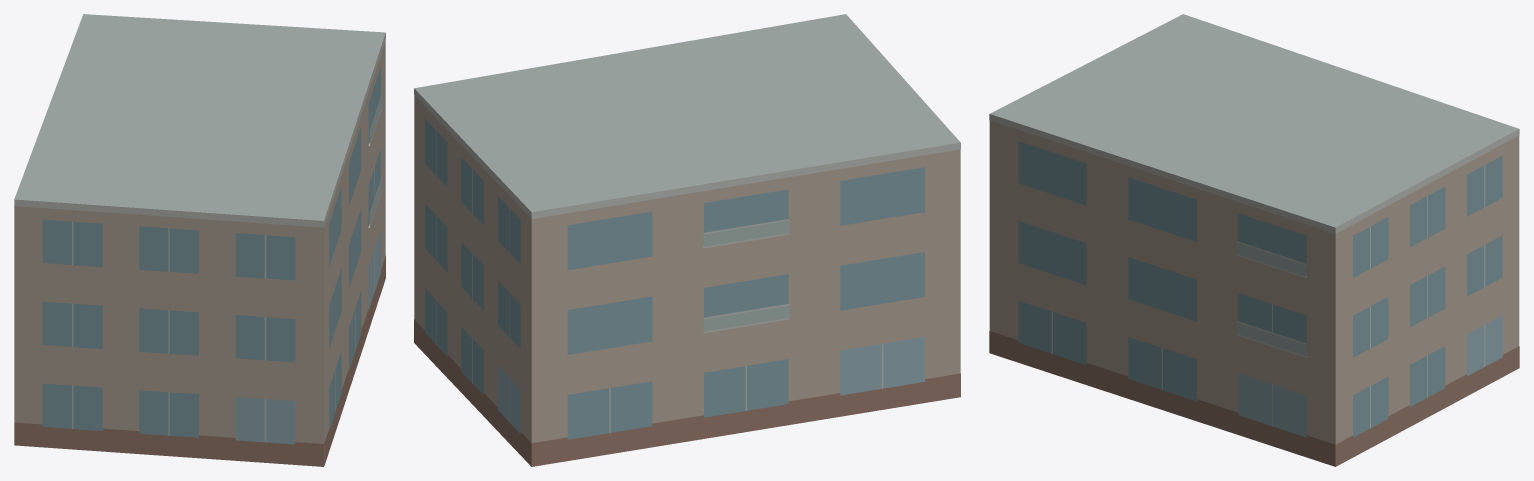
The model's file is survey-upis-32887346.glb.
3 renders of one model, left to right at view 1: azimuth 30°, elevation 25°; view 2: azimuth 150°, elevation 25°; view 3: azimuth 270°, elevation 25°, orthographic. The views are drawn at different scales.
Visible parts, largest first — view 1: survey-upis-32887346.tmp; view 2: survey-upis-32887346.tmp; view 3: survey-upis-32887346.tmp.
Boxes of the visible parts, bbox=[...] form: survey-upis-32887346.tmp: bbox=[14, 14, 385, 466]; survey-upis-32887346.tmp: bbox=[414, 14, 960, 466]; survey-upis-32887346.tmp: bbox=[989, 14, 1519, 466].
Bounding box in the file's own units: 17.53 × 9.15 × 18.37.
